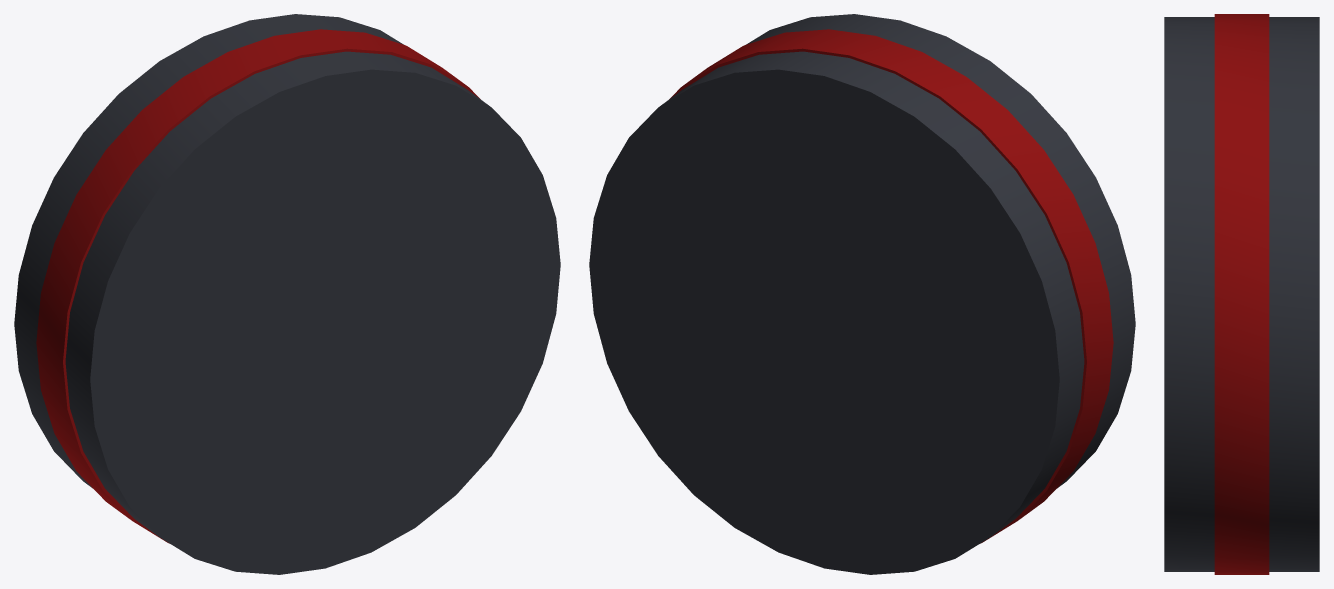
File: lidar_head.obj
3 views of the same model, side by side, from view 1: azimuth 30°, elevation 25°; view 2: azimuth 150°, elevation 25°; view 3: azimuth 270°, elevation 25° (orthographic). The views are drawn at different scales.
Visible parts, largest first — view 1: puck_head, window; view 2: puck_head, window; view 3: puck_head, window.
Part boxes in pixels (box(x1,y1,x2,y2)): puck_head: box(14, 14, 560, 574); window: box(36, 29, 480, 543); puck_head: box(589, 14, 1135, 574); window: box(669, 29, 1113, 543); puck_head: box(1164, 17, 1319, 571); window: box(1214, 14, 1269, 574).
Bounding box in the file's own units: 0.0651 × 0.0651 × 0.018.
